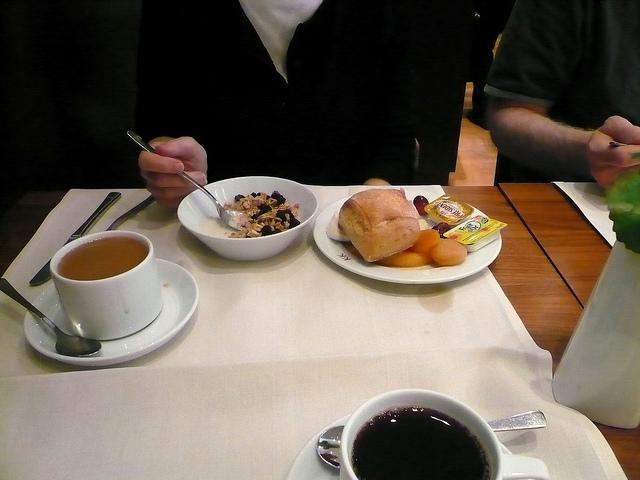grape: (413, 196, 429, 215), (431, 225, 452, 239)
